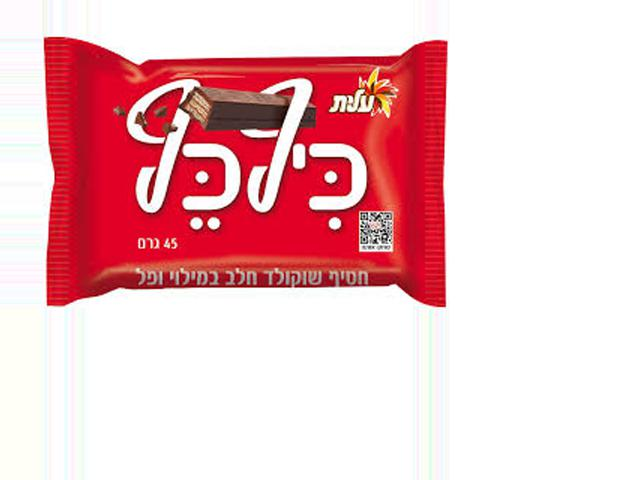chocolate: (46, 37, 444, 310)
